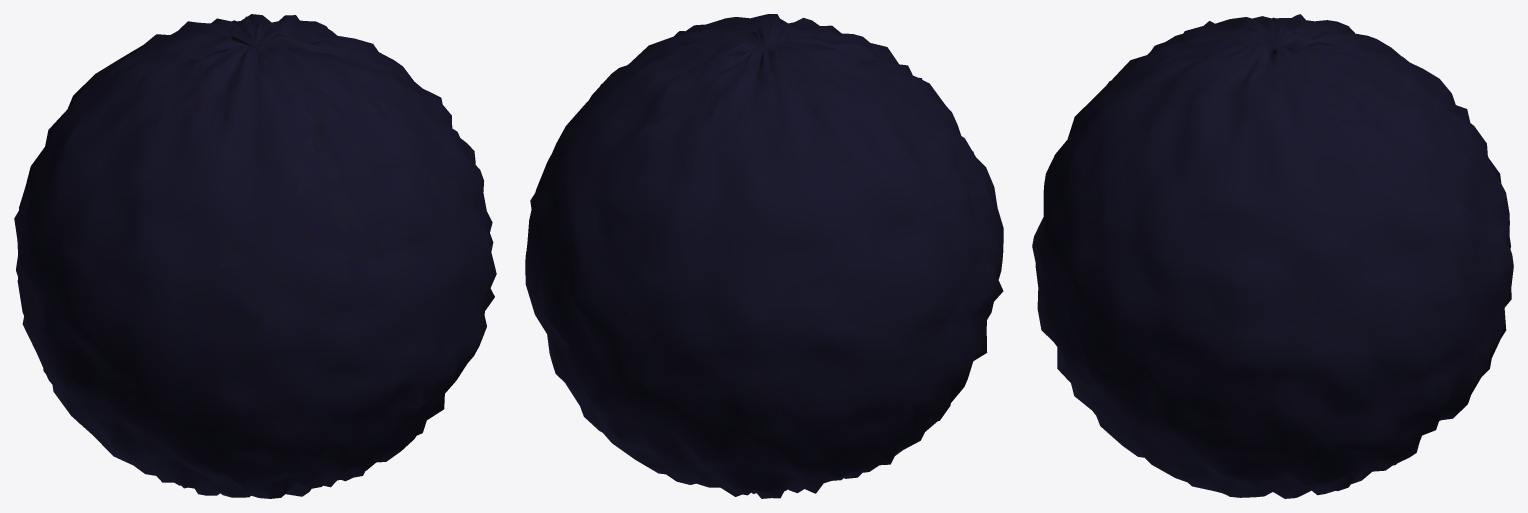
File: bumpy_sphere.glb
The picture shows the model from 3 angles, left to right: view 1: azimuth 30°, elevation 25°; view 2: azimuth 150°, elevation 25°; view 3: azimuth 270°, elevation 25°; orthographic projection.
Visible parts, largest first — view 1: BumpySphere; view 2: BumpySphere; view 3: BumpySphere.
Boxes of the visible parts, x1,y1,x2,y2 form: BumpySphere: (14, 14, 496, 498); BumpySphere: (525, 14, 1003, 498); BumpySphere: (1032, 14, 1513, 498).
Bounding box in the file's own units: 4.15 × 4.17 × 4.13.
Materials: 1 (1 with a texture image).
